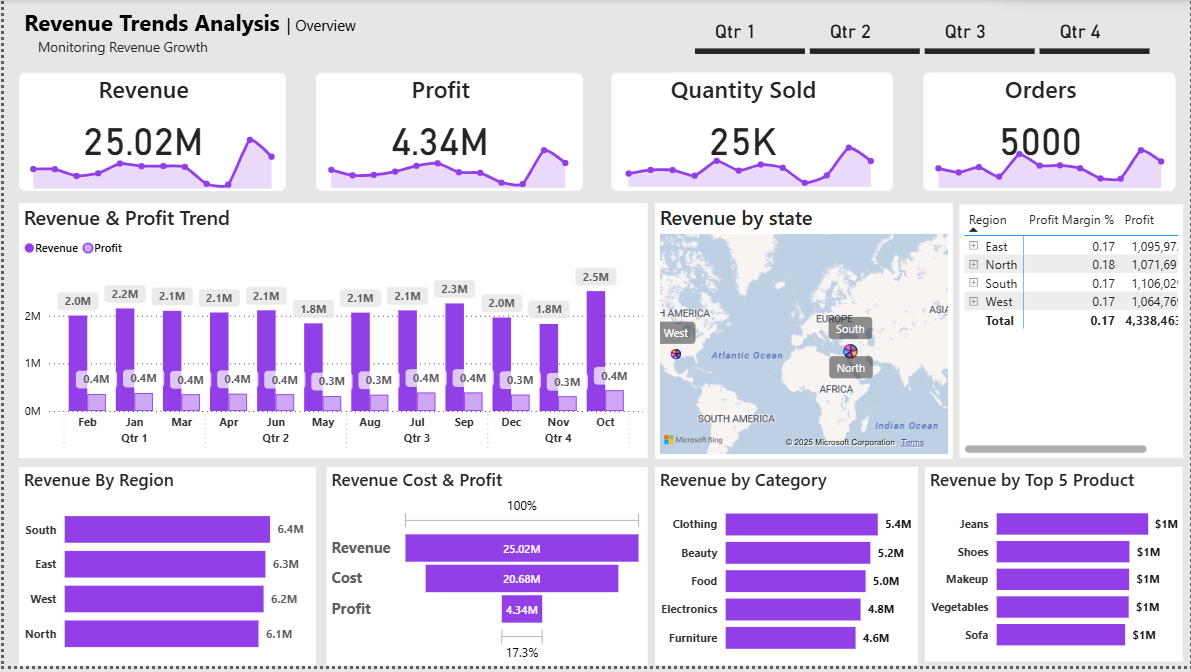

The page's visual inventory and layout, read from the dashboard file:
{"tool":"powerbi","page":{"name":"Revenue Dashboard ","canvas":[1280,720],"ordinal":0},"visuals":[{"type":"card","title":"Revenue","fields":{"Values":["sales_data_large.Revenue"]},"box":[16,80,288,128],"z":0},{"type":"card","title":"Profit","fields":{"Values":["sales_data_large.total_profit"]},"box":[336,80,288,128],"z":1000},{"type":"card","title":"Quantity Sold","fields":{"Values":["sales_data_large.Quntity_sold"]},"box":[656,80,304,128],"z":2000},{"type":"card","title":"Orders","fields":{"Values":["CountNonNull(sales_data_large.OrderID)"]},"box":[992,80,272,128],"z":3000},{"type":"lineClusteredColumnComboChart","title":"Revenue Trend","fields":{"Y":["sales_data_large.Revenue","Sum(sales_data_large.Profit)"],"Category":["sales_data_large.OrderDate.Variation.Date Hierarchy.Quarter","sales_data_large.Month"]},"box":[16.2,220.2,678.5,275.3],"z":4000},{"type":"clusteredBarChart","title":"Revenue By Region","fields":{"Category":["sales_data_large.Region"],"Y":["sales_data_large.Revenue"]},"box":[16.2,505.2,331.9,215.4],"z":5000},{"type":"barChart","title":"Revenue by Category","fields":{"Y":["sales_data_large.Revenue"],"Category":["sales_data_large.Category"]},"box":[702,506,284,214],"z":6000},{"type":"barChart","title":"Revenue by Top 5 Product","fields":{"Category":["sales_data_large.Product"],"Y":["sales_data_large.Revenue"]},"box":[994,506,278,210],"z":7000},{"type":"map","title":"Revenue by state","fields":{"Category":["sales_data_large.Region"],"Size":["sales_data_large.Revenue"],"Series":["sales_data_large.Category"]},"box":[702.7,220.2,320.6,275.3],"z":8000},{"type":"pivotTable","fields":{"Rows":["sales_data_large.Region","sales_data_large.OrderDate.Variation.Date Hierarchy.Year"],"Values":["sales_data_large.Profit Margin %","Sum(sales_data_large.Profit)"]},"box":[1031.4,221.8,241.3,273.6],"z":9000},{"type":"lineChart","title":"Revenue Trend","fields":{"Category":["sales_data_large.Region"],"Y":["sales_data_large.Revenue"]},"box":[360,506,334,214],"z":10000},{"type":"lineChart","fields":{"Y":["sales_data_large.Revenue"],"Category":["sales_data_large.Month"]},"box":[16.3,128.5,288,76.5],"z":11000},{"type":"lineChart","fields":{"Category":["sales_data_large.Month"],"Y":["sales_data_large.total_profit"]},"box":[336.8,132.8,285,71.2],"z":12000},{"type":"lineChart","fields":{"Category":["sales_data_large.Month"],"Y":["sales_data_large.Quntity_sold"]},"box":[657.4,128.5,294.5,74.8],"z":13000},{"type":"lineChart","fields":{"Category":["sales_data_large.Month"],"Y":["sales_data_large.Total_order"]},"box":[992,128,272,76],"z":14000},{"type":"textbox","box":[16,0,704,80],"z":15000},{"type":"advancedSlicerVisual","fields":{"Values":["sales_data_large.OrderDate.Variation.Date Hierarchy.Quarter"]},"box":[720,0,544,64],"z":16000}]}

Visuals, with their boxes in screenshot pixels (x1, y1, x2, y2), scaled from the page's 1280x720 canvas onto the 1191x672 screenshot:
"Revenue" card: bbox=[15, 75, 283, 194]
"Profit" card: bbox=[313, 75, 581, 194]
"Quantity Sold" card: bbox=[610, 75, 893, 194]
"Orders" card: bbox=[923, 75, 1176, 194]
"Revenue Trend" lineClusteredColumnComboChart: bbox=[15, 206, 646, 462]
"Revenue By Region" clusteredBarChart: bbox=[15, 472, 324, 671]
"Revenue by Category" barChart: bbox=[653, 472, 917, 671]
"Revenue by Top 5 Product" barChart: bbox=[925, 472, 1184, 668]
"Revenue by state" map: bbox=[654, 206, 952, 462]
pivotTable - sales_data_large.Region x sales_data_large.OrderDate.Variation.Date Hierarchy.Year: bbox=[960, 207, 1184, 462]
"Revenue Trend" lineChart: bbox=[335, 472, 646, 671]
lineChart - sales_data_large.Revenue x sales_data_large.Month: bbox=[15, 120, 283, 191]
lineChart - sales_data_large.Month x sales_data_large.total_profit: bbox=[313, 124, 579, 190]
lineChart - sales_data_large.Month x sales_data_large.Quntity_sold: bbox=[612, 120, 886, 190]
lineChart - sales_data_large.Month x sales_data_large.Total_order: bbox=[923, 119, 1176, 190]
textbox: bbox=[15, 0, 670, 75]
advancedSlicerVisual - sales_data_large.OrderDate.Variation.Date Hierarchy.Quarter: bbox=[670, 0, 1176, 60]
